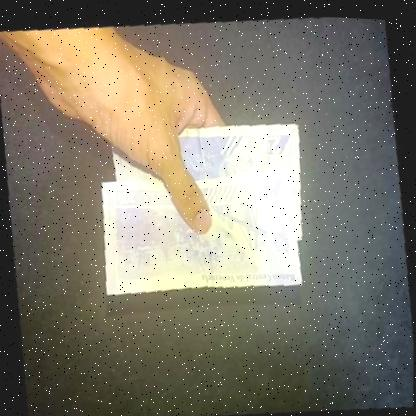two_hundred-back-vef: (88, 150, 306, 312)
